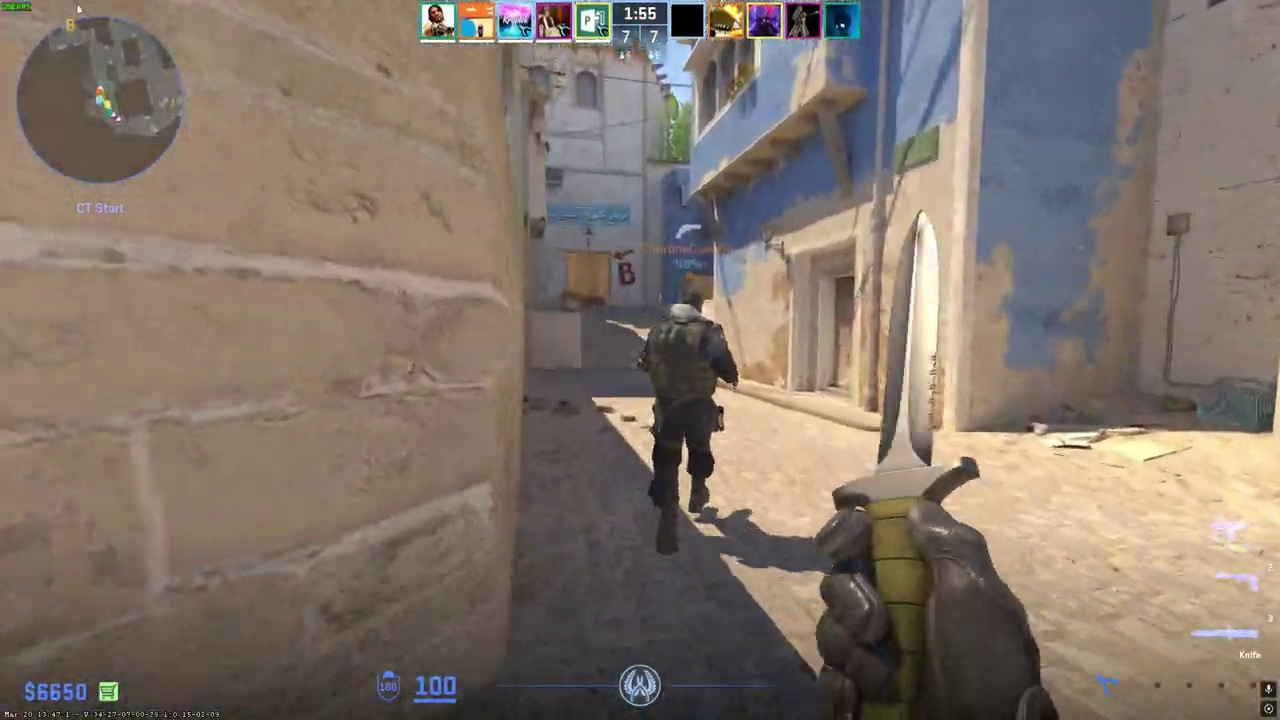CT: (636, 291, 734, 553)
